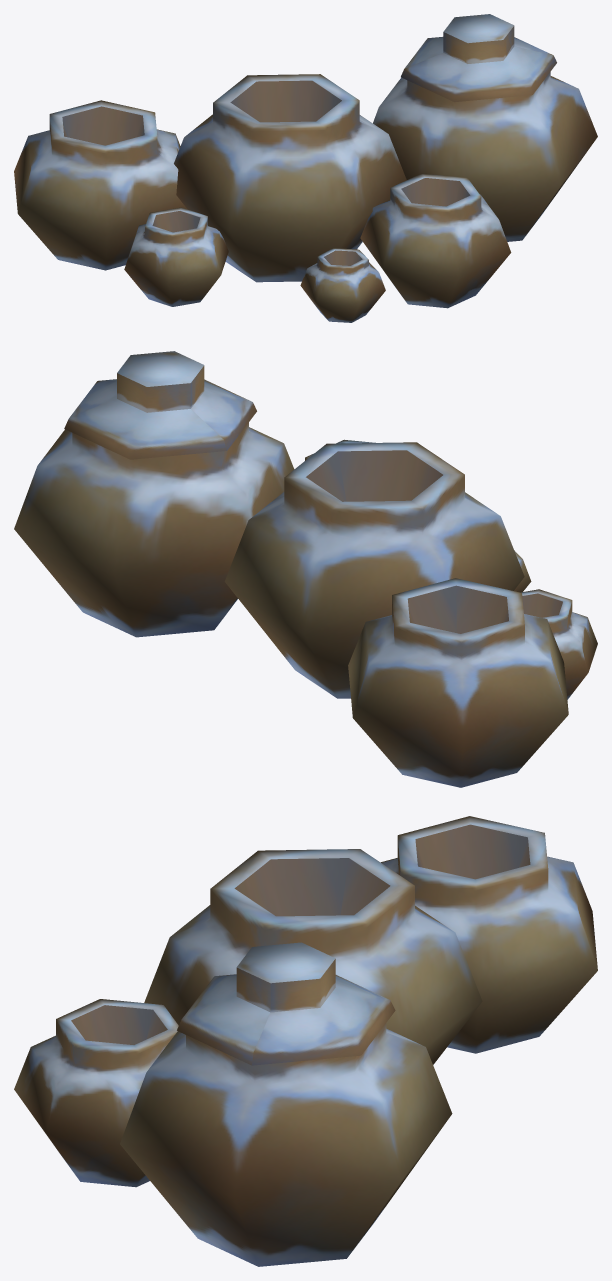
Rendered from Map_10_vase.FBX.
3 views of the same model, one above another, from view 1: azimuth 30°, elevation 25°; view 2: azimuth 150°, elevation 25°; view 3: azimuth 270°, elevation 25° (orthographic). The views are drawn at different scales.
Parts seen in each view (by area): view 1: Map_10_vase; view 2: Map_10_vase; view 3: Map_10_vase.
Boxes of the visible parts, <box> form: Map_10_vase: <box>14,14,597,322</box>; Map_10_vase: <box>14,351,597,787</box>; Map_10_vase: <box>14,816,597,1266</box>.
Size of the model in its own units: 174 by 65.16 by 127.
